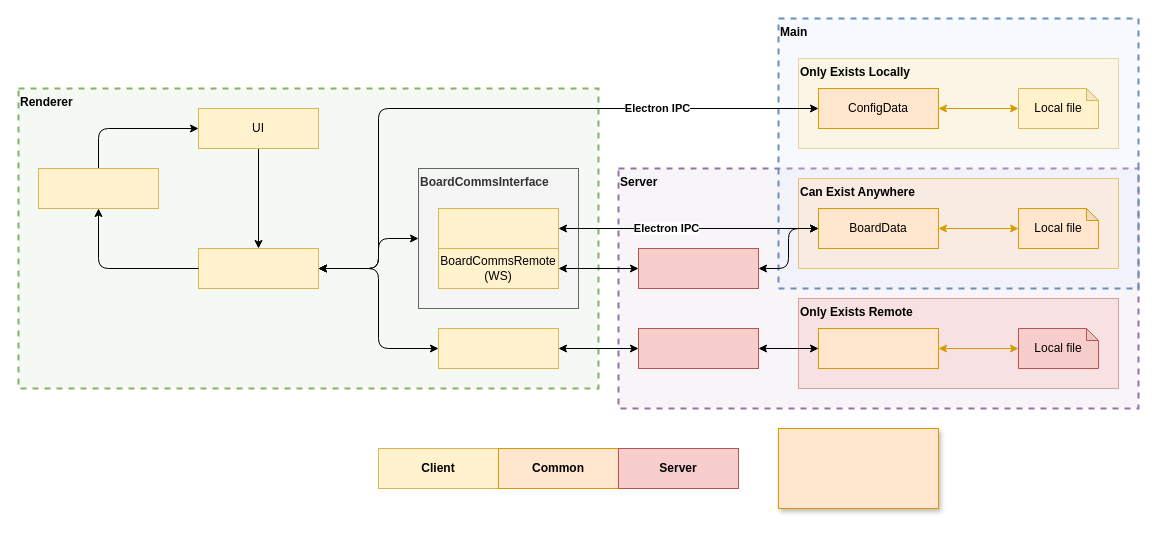
Image size: 1156x533. Some labels were removed from this diagram. Each missing label, with the centre of its shape:
Action: point (258, 268)
All "*Data" files are kept in "common" so they're all in one place.: point (859, 470)
BoardCommsLocal: point (498, 228)
REST Endpoints: point (698, 348)
RestComms: point (498, 348)
ServerData: point (878, 348)
Vuex: point (98, 188)
WebsocketManager / MessageHandlers: point (698, 268)
